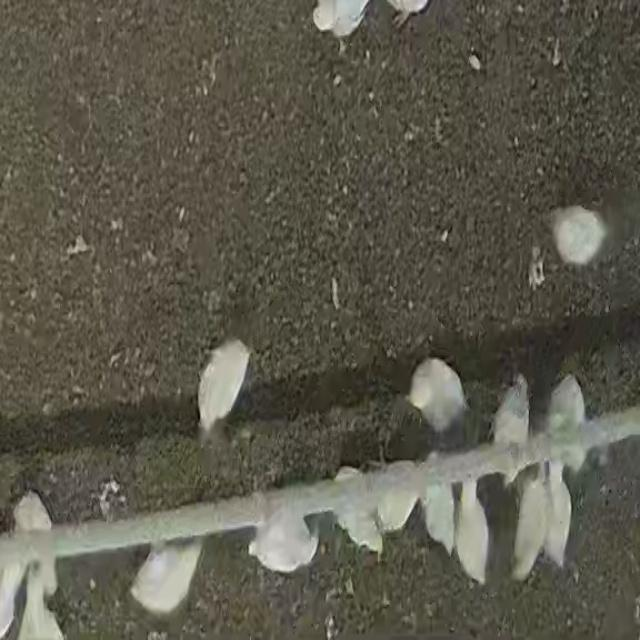chicken: (133, 535, 204, 614), (193, 336, 247, 434), (12, 490, 62, 595), (407, 354, 471, 436), (248, 504, 318, 574), (538, 443, 573, 565), (493, 373, 531, 485), (509, 464, 545, 582), (454, 476, 492, 586), (334, 468, 382, 551), (420, 454, 457, 556), (548, 373, 586, 471), (548, 204, 606, 266), (16, 566, 64, 640), (376, 462, 423, 534)
